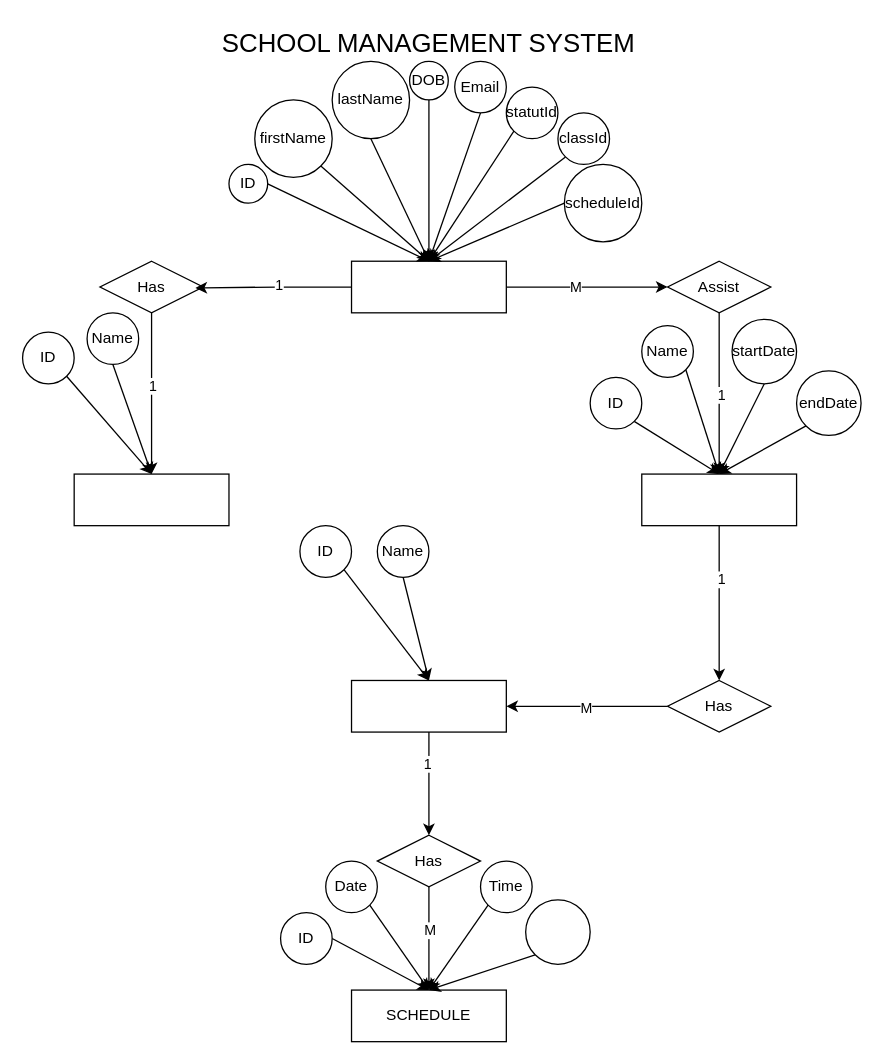
Image size: 884x1064. Some labels were removed from this diagram. Each missing label, with the box of its shape:
CLASS: (640, 473, 797, 526)
COURSE: (350, 679, 506, 732)
courseId: (524, 898, 590, 964)
STATUTS: (73, 473, 229, 526)
USER: (350, 260, 506, 313)
